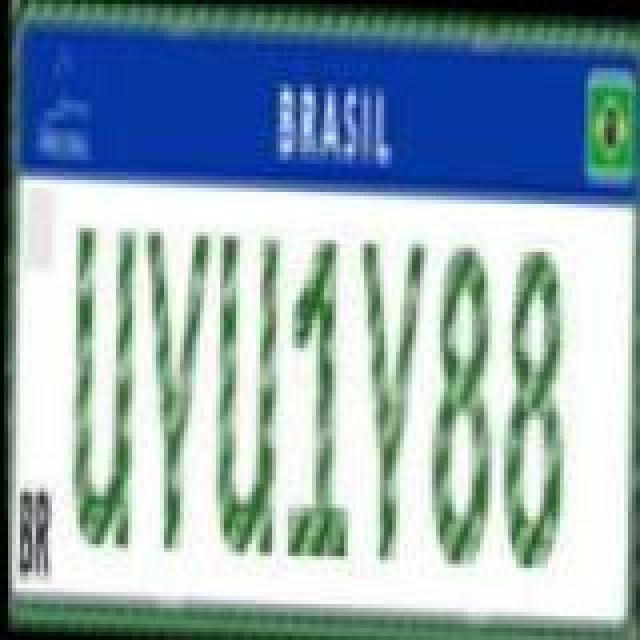1: (278, 232, 358, 560)
8: (420, 240, 496, 568), (492, 242, 568, 570)
U: (204, 226, 280, 558), (62, 224, 134, 556)
Y: (130, 226, 210, 558), (346, 236, 426, 560)
